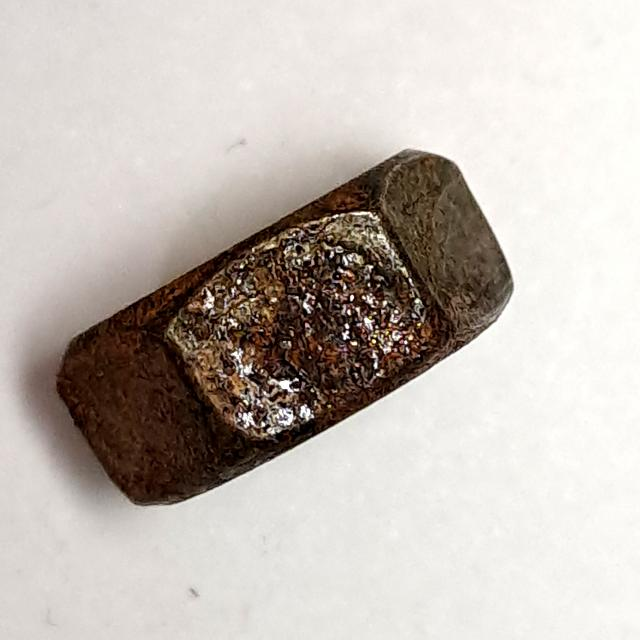Side_Rust: (49, 141, 525, 517)
